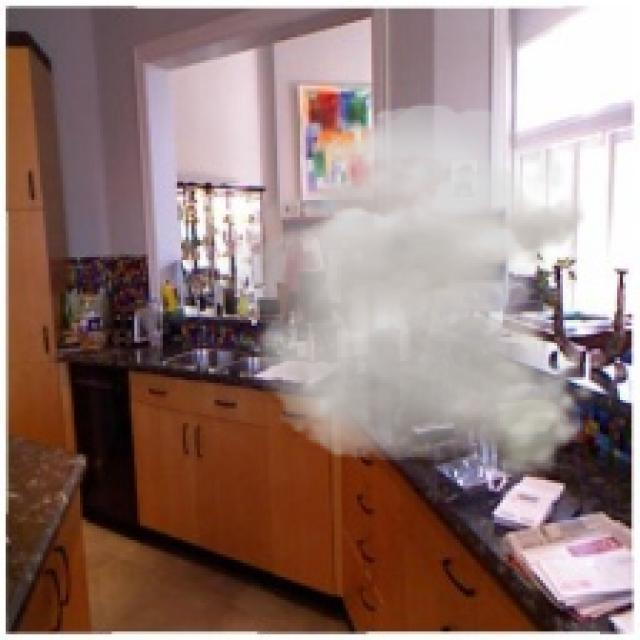smoke: (200, 103, 597, 477)
